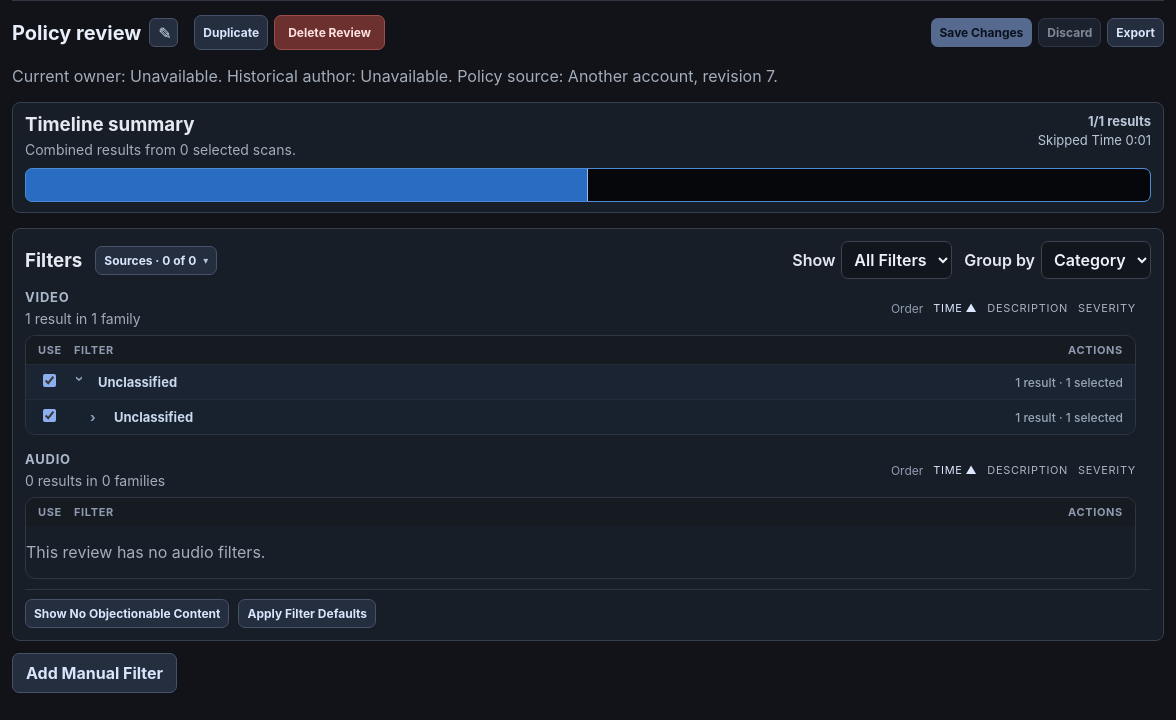
preserves explicit grouped selection even when it returns to the enforced display value
Later steps or results of the test are not shown.
Step 1. Click the checkbox named "Use all video filters in Unclassified family" → (50, 380), box [44,374,56,387]
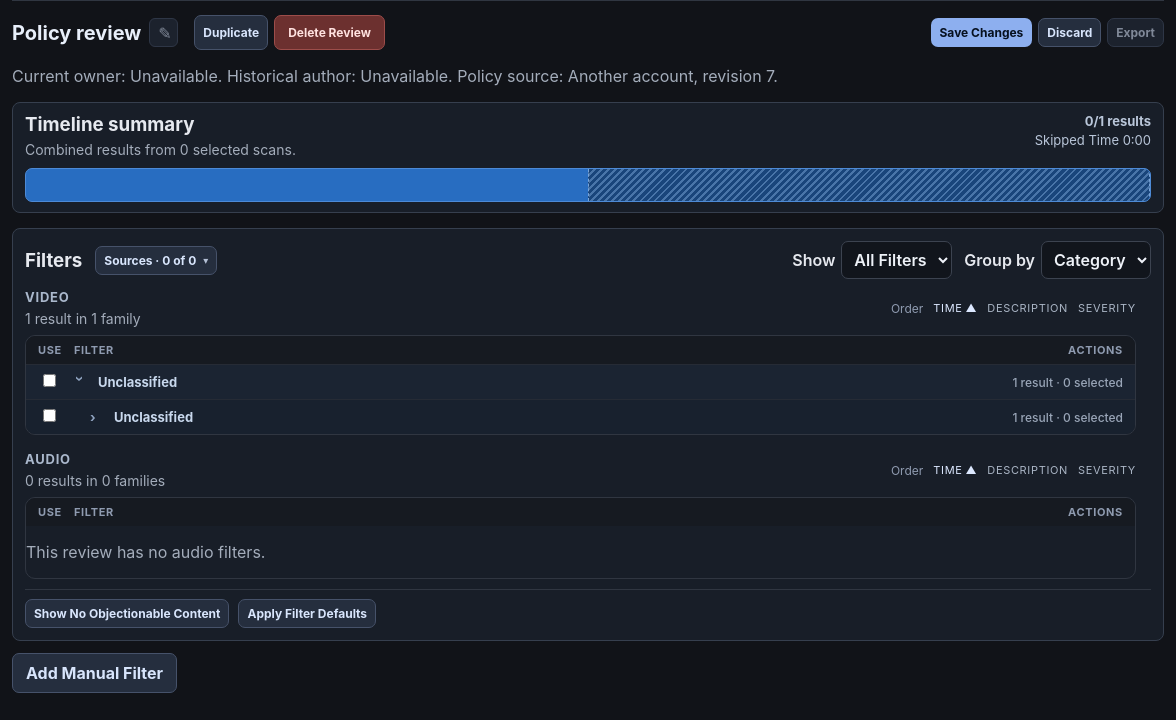
Step 2. Click the checkbox named "Use all video filters in Unclassified family" → (50, 380), box [44,374,56,387]
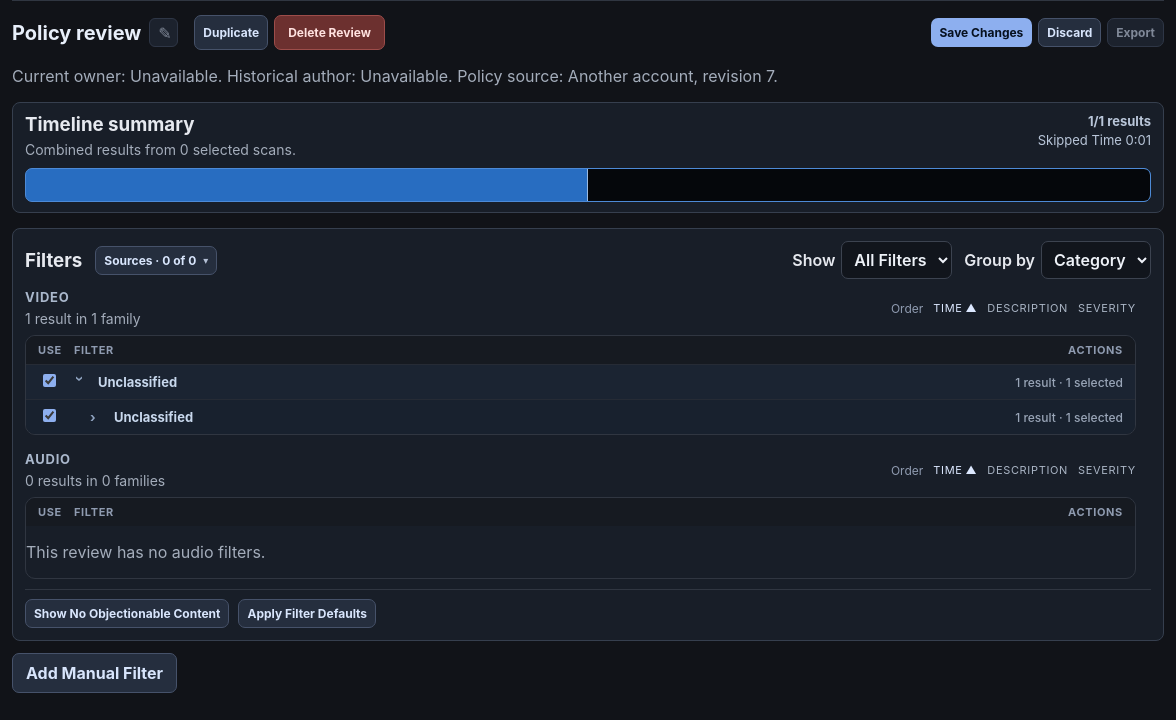
Now the button "Save Changes" is enabled, box [930,18,1032,47]
